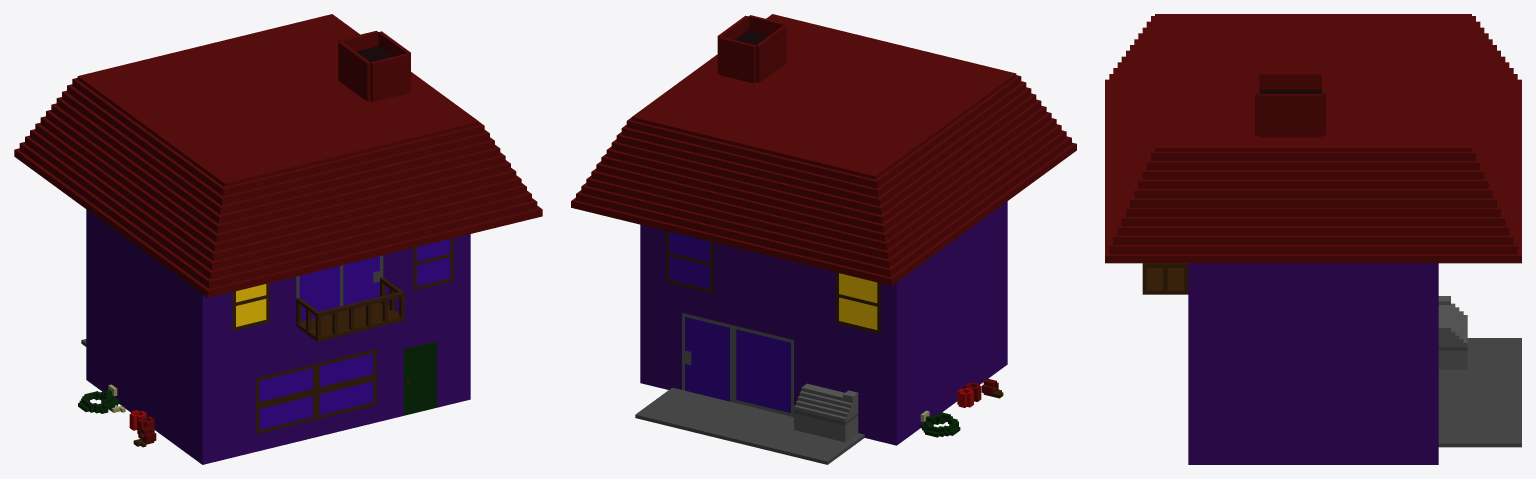
The model's file is House1.obj.
3 views of the same model, side by side, from view 1: azimuth 30°, elevation 25°; view 2: azimuth 150°, elevation 25°; view 3: azimuth 270°, elevation 25° (orthographic). The views are drawn at different scales.
Size of the model in its own units: 100 by 94 by 100.
